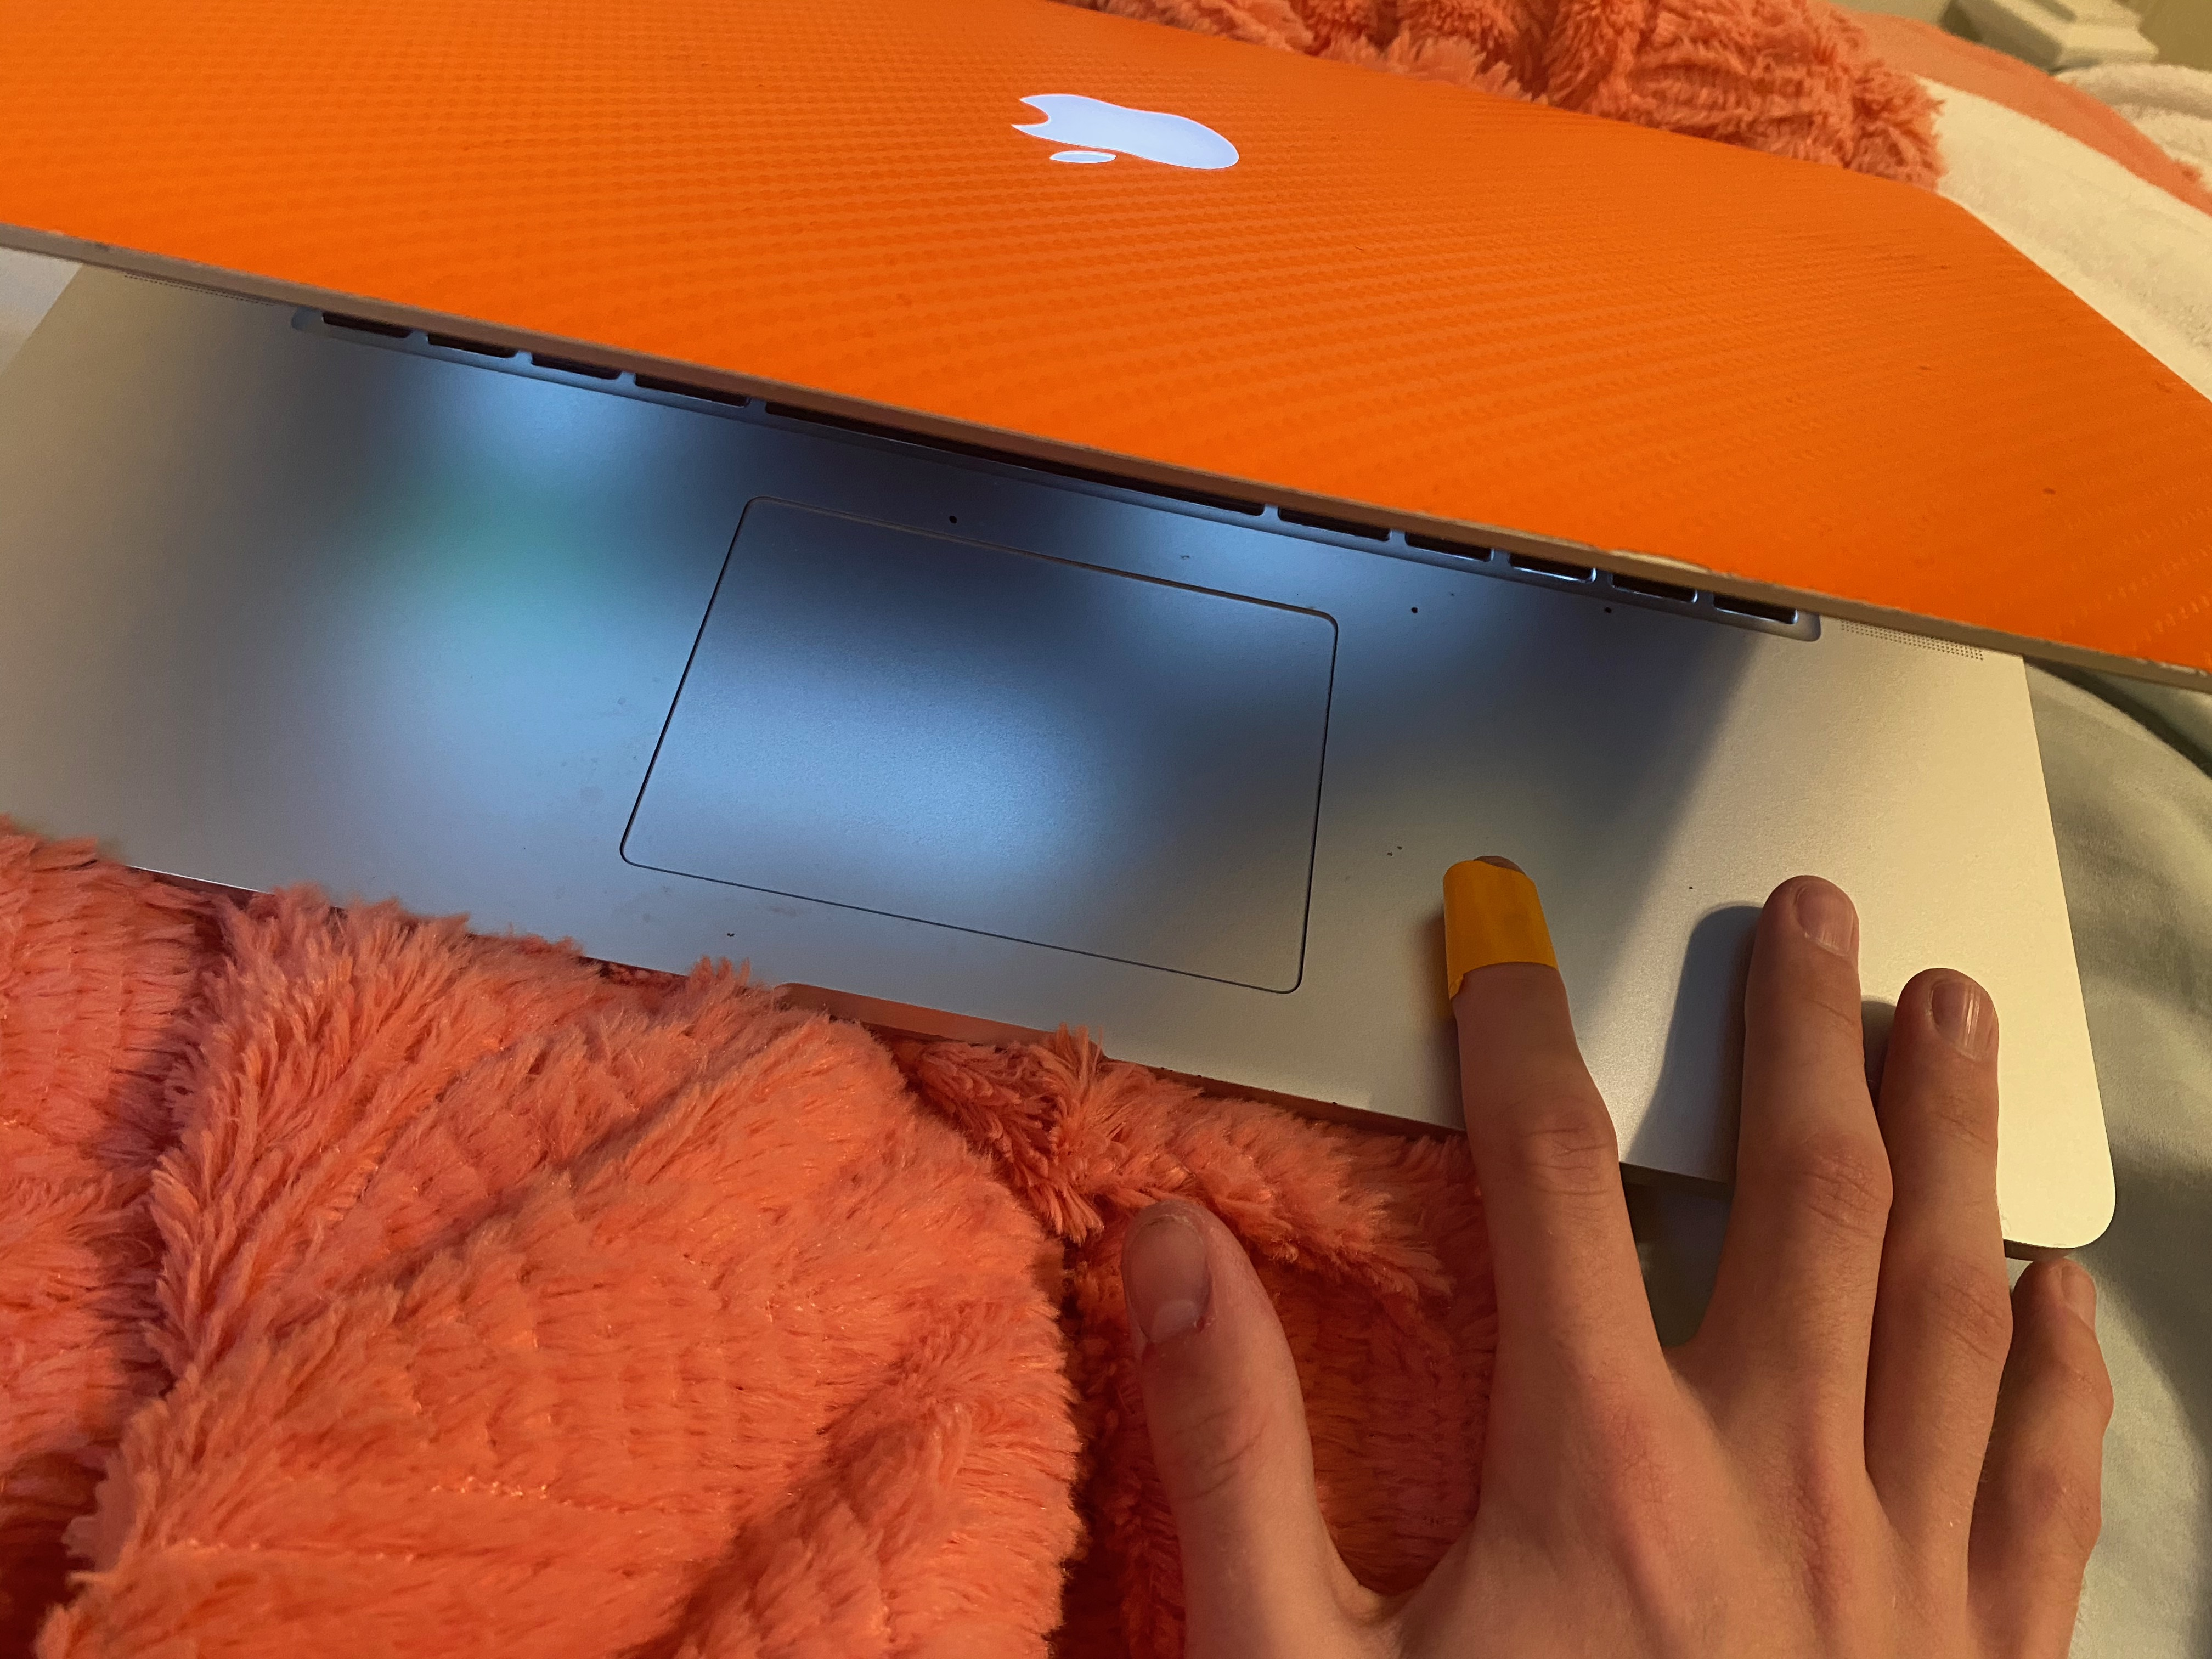fingertip: (1413, 852, 1564, 988)
